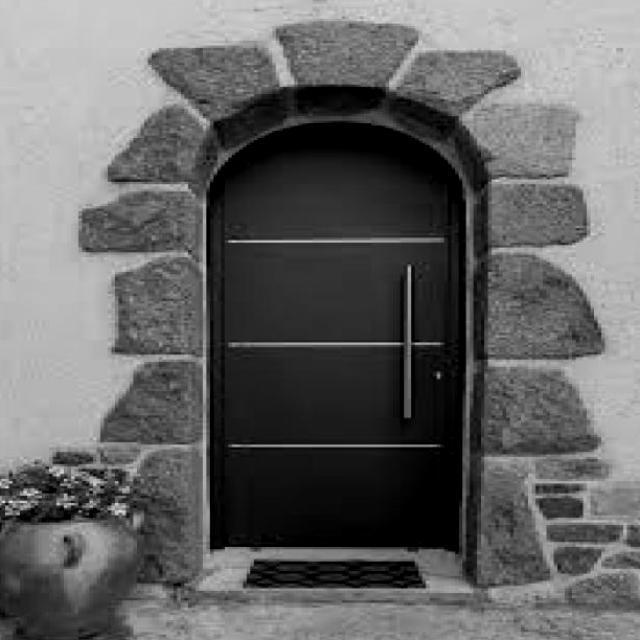door: (210, 127, 465, 553)
